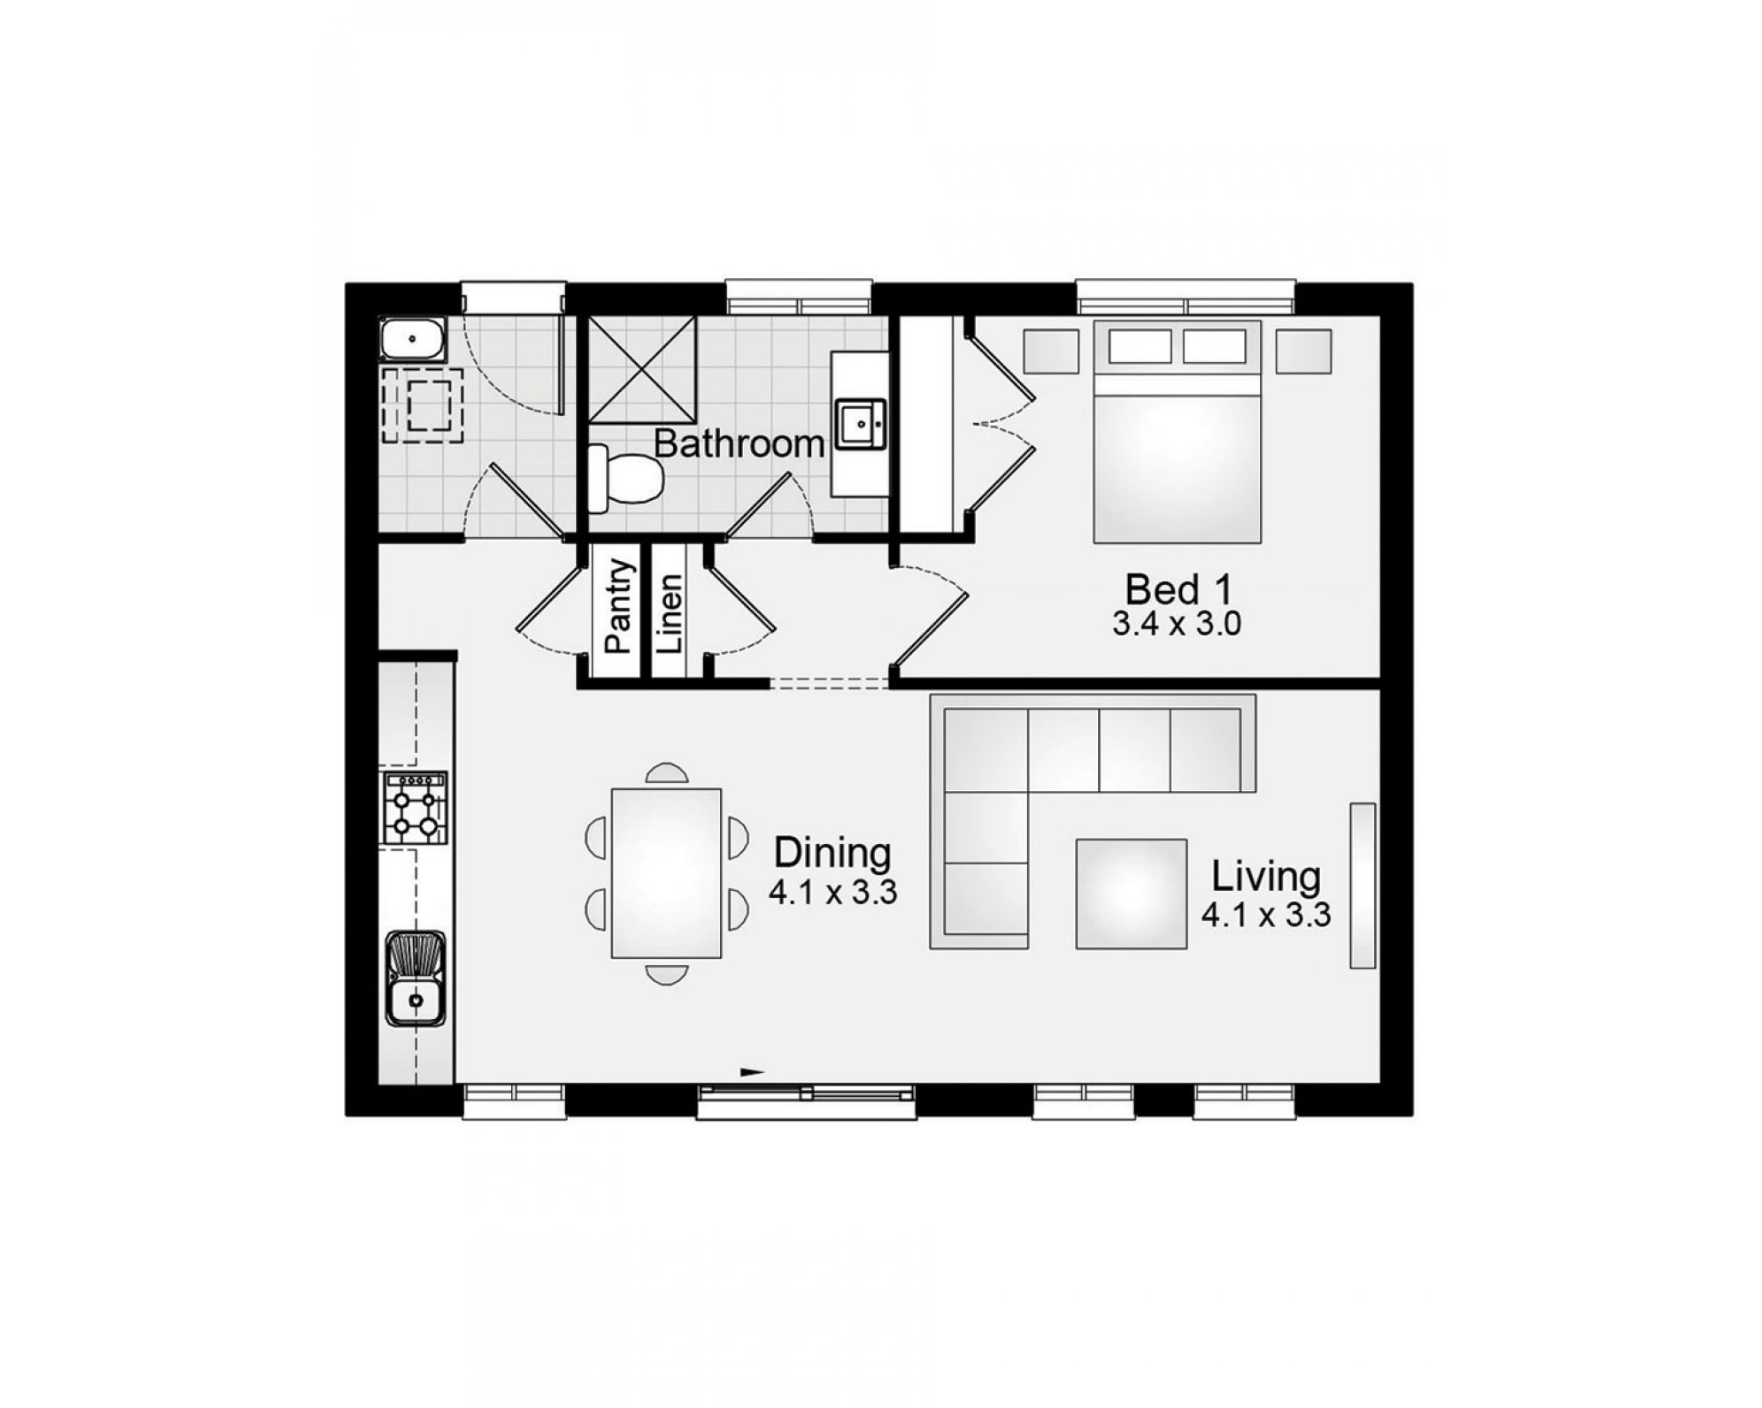door: (965, 348, 1047, 504), (467, 323, 567, 422), (460, 460, 557, 532), (896, 563, 974, 652), (719, 468, 820, 534), (711, 560, 775, 655), (513, 566, 574, 662)
